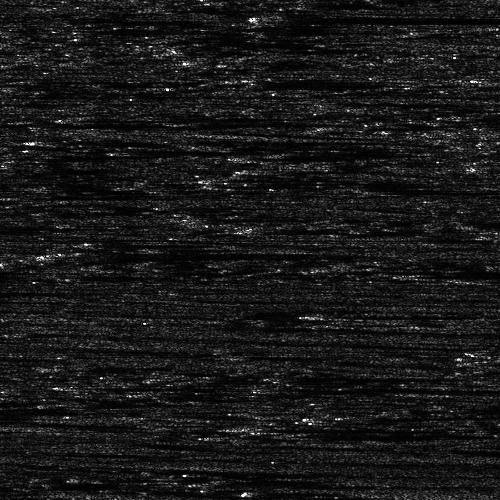rock: (240, 13, 323, 24), (17, 138, 90, 143), (16, 250, 69, 255), (455, 113, 486, 118), (238, 425, 269, 428)
shadow: (282, 13, 500, 24), (0, 115, 260, 124), (43, 250, 320, 255), (54, 138, 167, 143), (254, 425, 435, 428), (471, 113, 500, 118)
